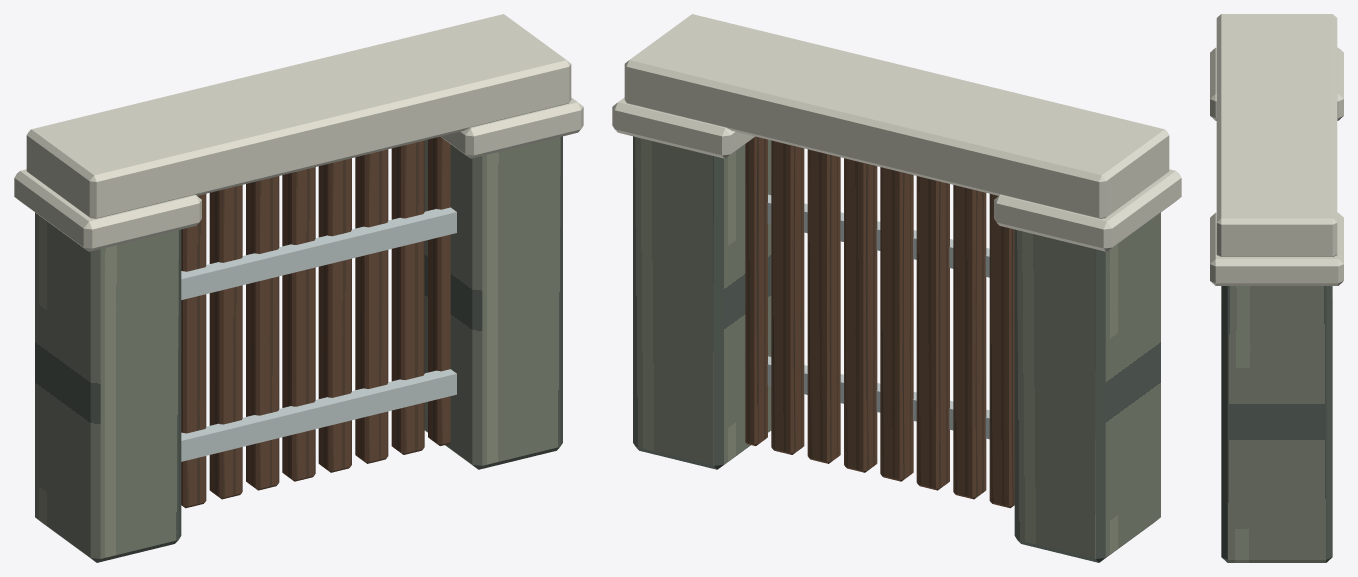
Rendered from gate_closed.glb.
3 views of the same model, side by side, from view 1: azimuth 30°, elevation 25°; view 2: azimuth 150°, elevation 25°; view 3: azimuth 270°, elevation 25° (orthographic). The views are drawn at different scales.
Visible parts, largest first — view 1: Arch_lintel.001, Pillar.002, Pillar.003, Wood_bar.006, Wood_bar.003, Wood_bar.007, Wood_bar.002, Wood_bar.004, Wood_bar.005, Gate_band, Gate_band.001, Pillar_cap.002 (+3 smaller); view 2: Arch_lintel.001, Pillar.002, Pillar.003, Wood_bar.006, Wood_bar.003, Wood_bar.004, Wood_bar.007, Wood_bar.002, Wood_bar.005, Wood_bar.001, Wood_bar.008, Pillar_cap.002 (+3 smaller); view 3: Pillar.003, Arch_lintel.001, Pillar_cap.003, Pillar_cap.002.
Boxes of the visible parts, box(x1,y1,x2,y2) form: Arch_lintel.001: box(26, 14, 571, 218); Pillar.002: box(35, 212, 181, 562); Pillar.003: box(424, 136, 562, 469); Wood_bar.006: box(355, 149, 388, 463); Wood_bar.003: box(246, 176, 279, 490); Wood_bar.007: box(391, 140, 424, 454); Wood_bar.002: box(209, 185, 242, 499); Wood_bar.004: box(282, 167, 315, 481); Wood_bar.005: box(318, 158, 351, 472); Gate_band: box(181, 369, 456, 461); Gate_band.001: box(181, 207, 456, 299); Pillar_cap.002: box(14, 169, 201, 251); Arch_lintel.001: box(624, 14, 1169, 218); Pillar.002: box(1014, 212, 1160, 562); Pillar.003: box(633, 136, 771, 469); Wood_bar.006: box(807, 149, 840, 463); Wood_bar.003: box(916, 176, 949, 490); Wood_bar.004: box(880, 167, 913, 481); Wood_bar.007: box(771, 140, 804, 454); Wood_bar.002: box(953, 185, 986, 499); Wood_bar.005: box(844, 158, 877, 472); Wood_bar.001: box(989, 194, 1014, 508); Wood_bar.008: box(745, 136, 767, 445); Pillar_cap.002: box(994, 169, 1181, 251); Pillar.003: box(1221, 286, 1332, 562); Arch_lintel.001: box(1216, 14, 1337, 256); Pillar_cap.003: box(1210, 212, 1343, 285); Pillar_cap.002: box(1210, 47, 1343, 120).
Bounding box in the file's own units: 2.75 × 2.06 × 0.72.
4 materials, 2 textured.
